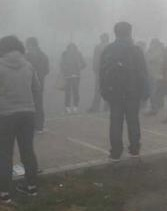person: (1, 32, 42, 203), (99, 20, 148, 160), (22, 36, 56, 141), (58, 39, 87, 114), (89, 31, 113, 114), (144, 37, 167, 116)
